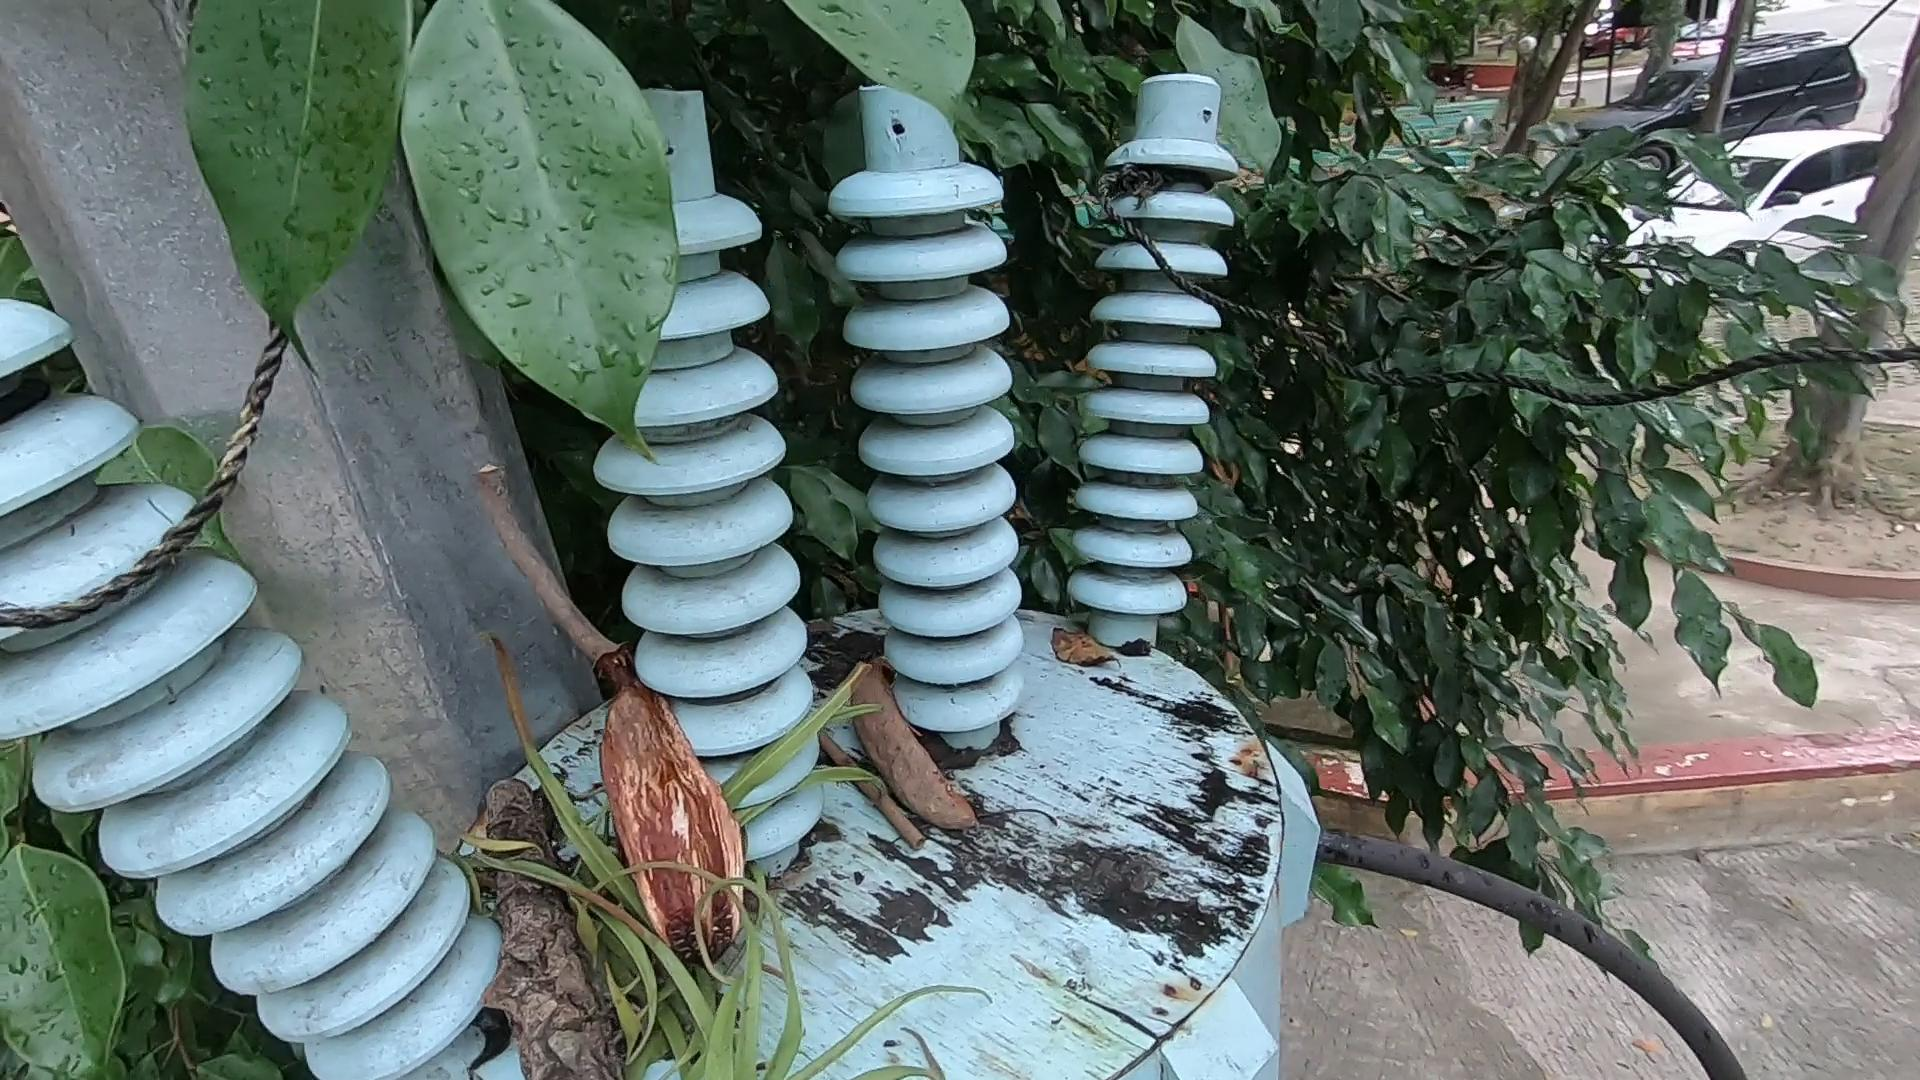branch with leaves: (448, 757, 673, 1080)
leaf: (1025, 576, 1131, 703)
mahogany fruit: (589, 669, 745, 934), (837, 618, 989, 836)
tree branch: (462, 454, 647, 705), (814, 632, 920, 891)
